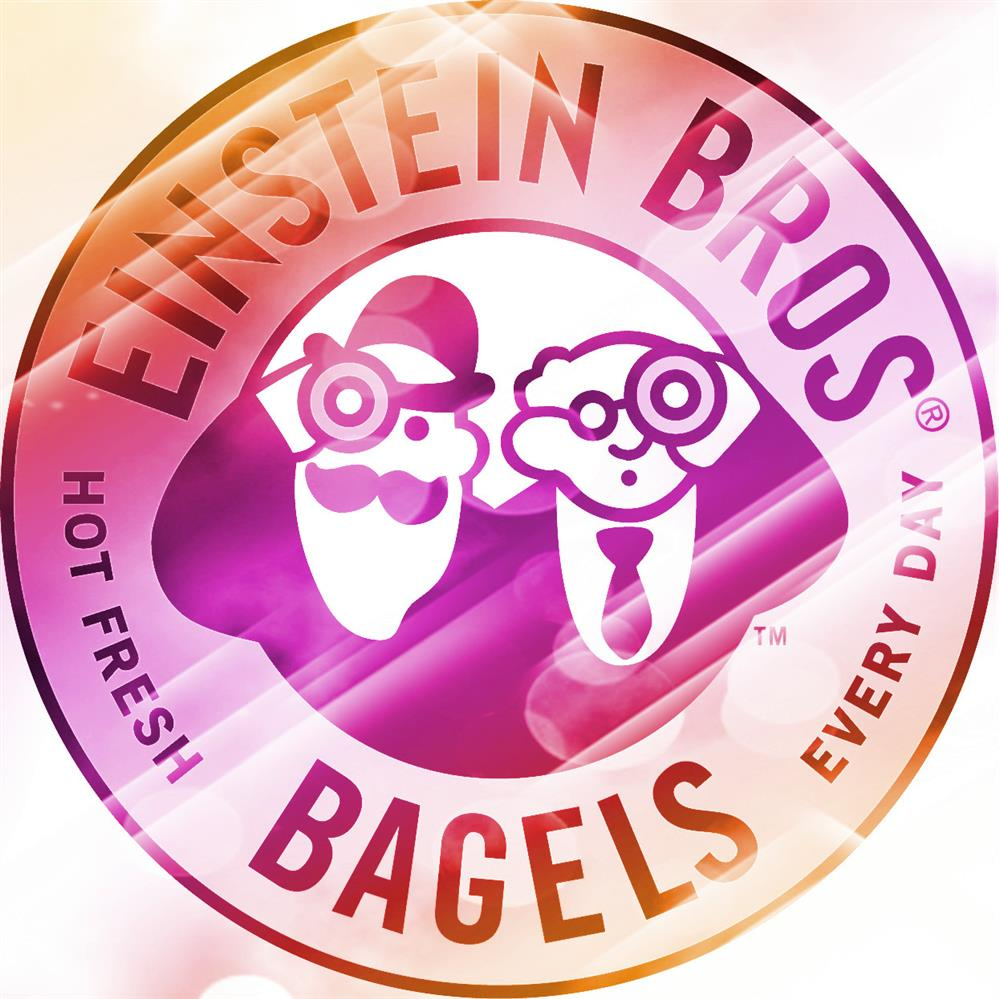einstein_bros: (2, 10, 978, 992)
